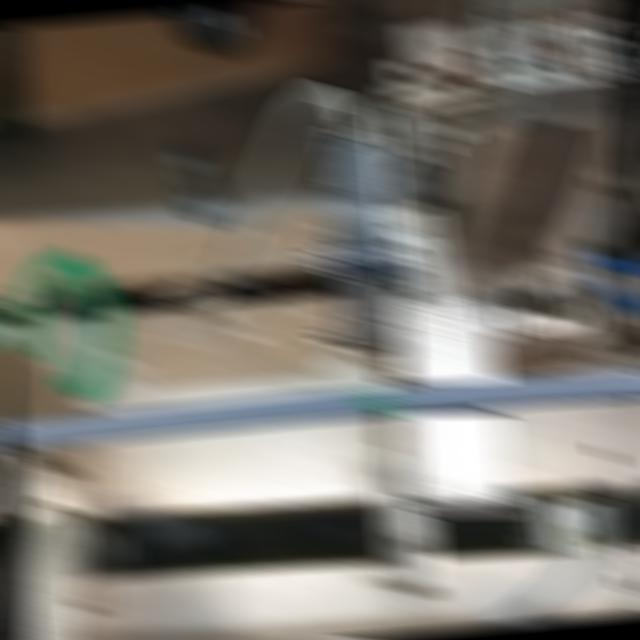green: (354, 381, 403, 420)
